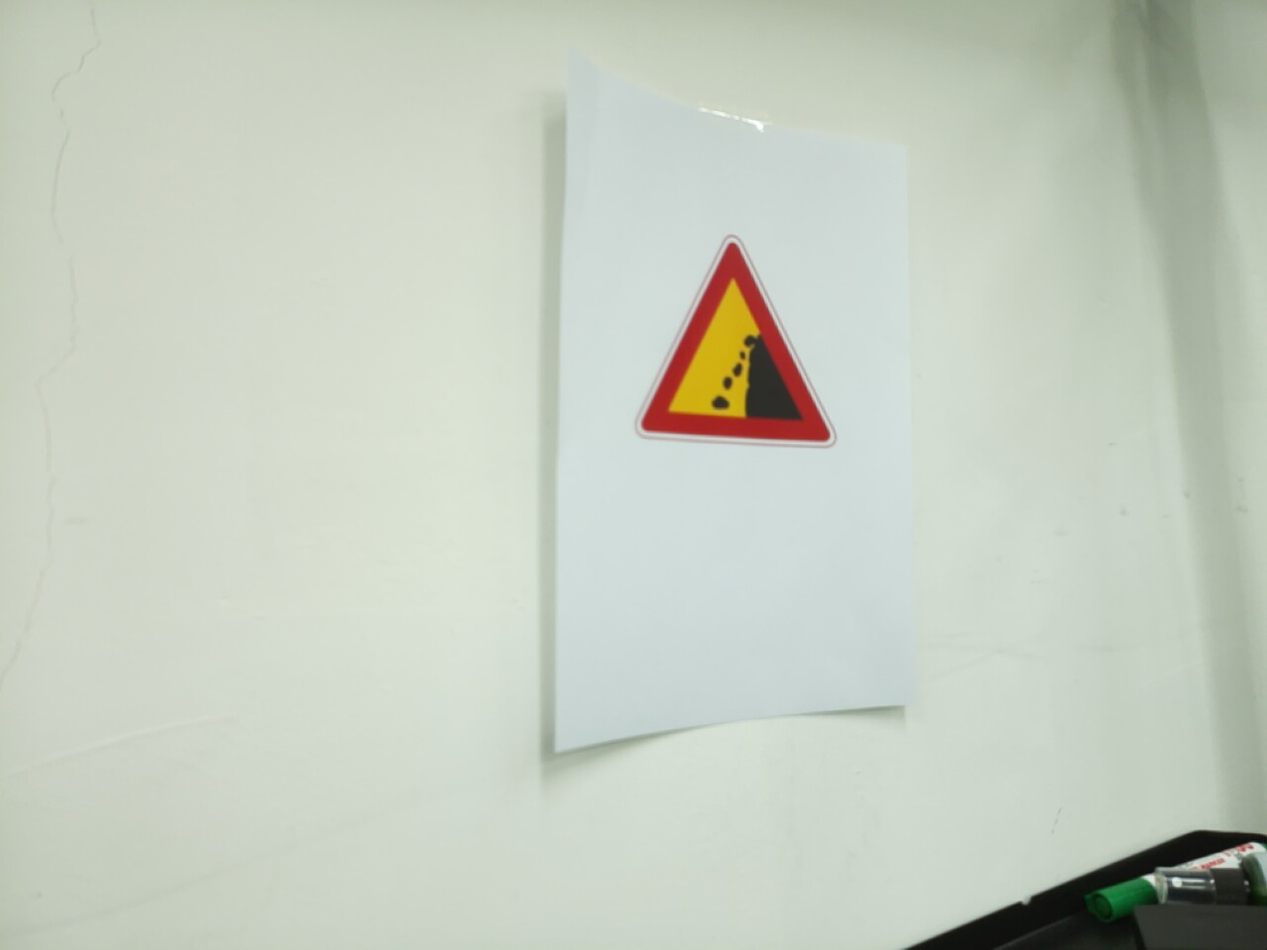falling_rocks: (634, 235, 837, 450)
